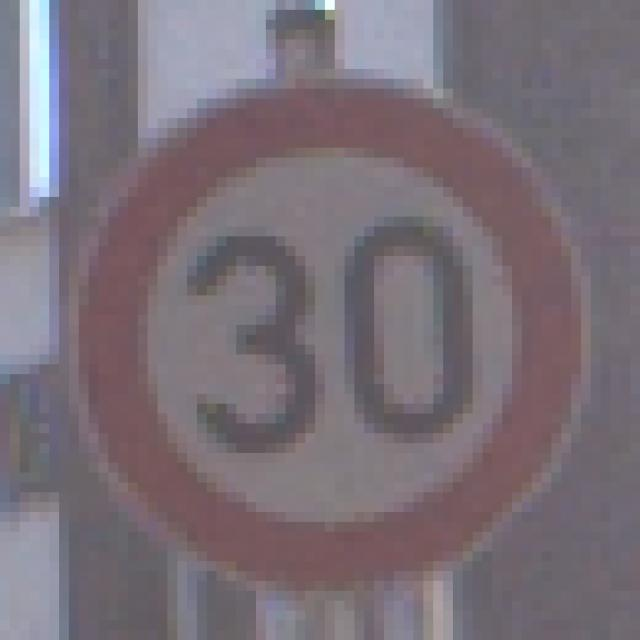Speed Limit -30-: (44, 54, 576, 586)
